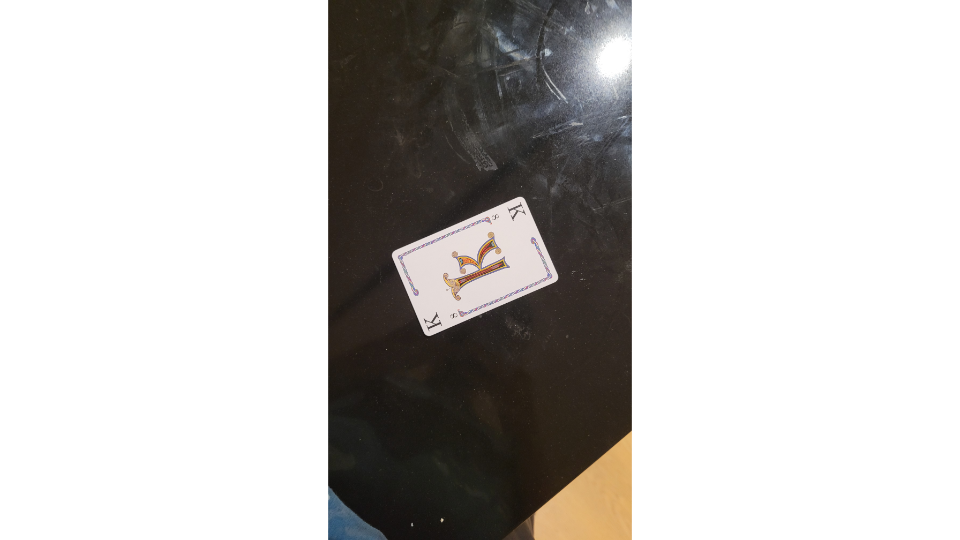K: (389, 193, 563, 340)
